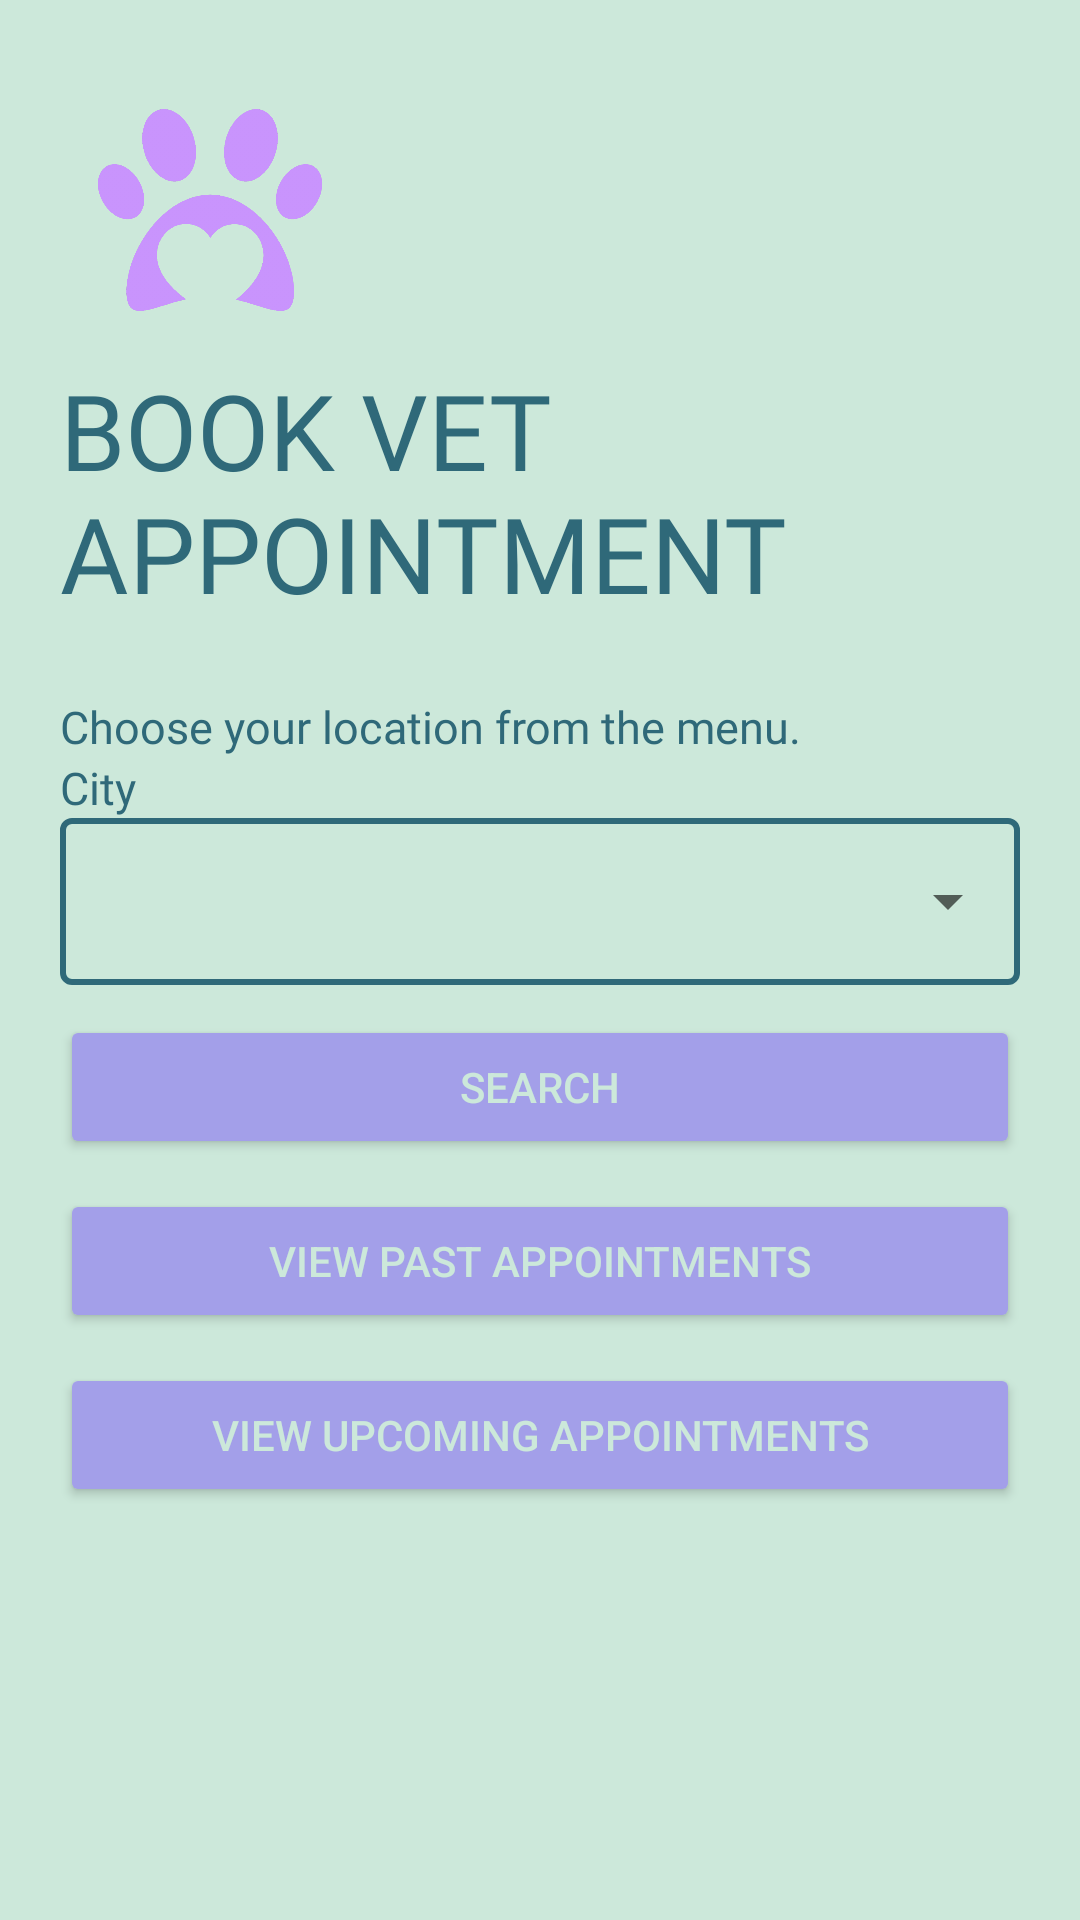

Icons on this 1080*1920 Android screen, each with the point to tap as (x,y):
paw: (210,210)
